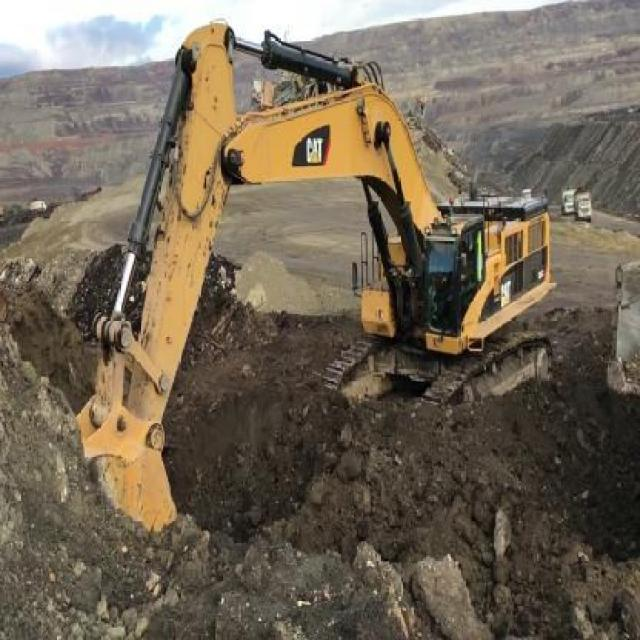Dump Truck: (572, 190, 591, 222), (558, 186, 574, 217)
Excavator: (72, 15, 557, 540)
